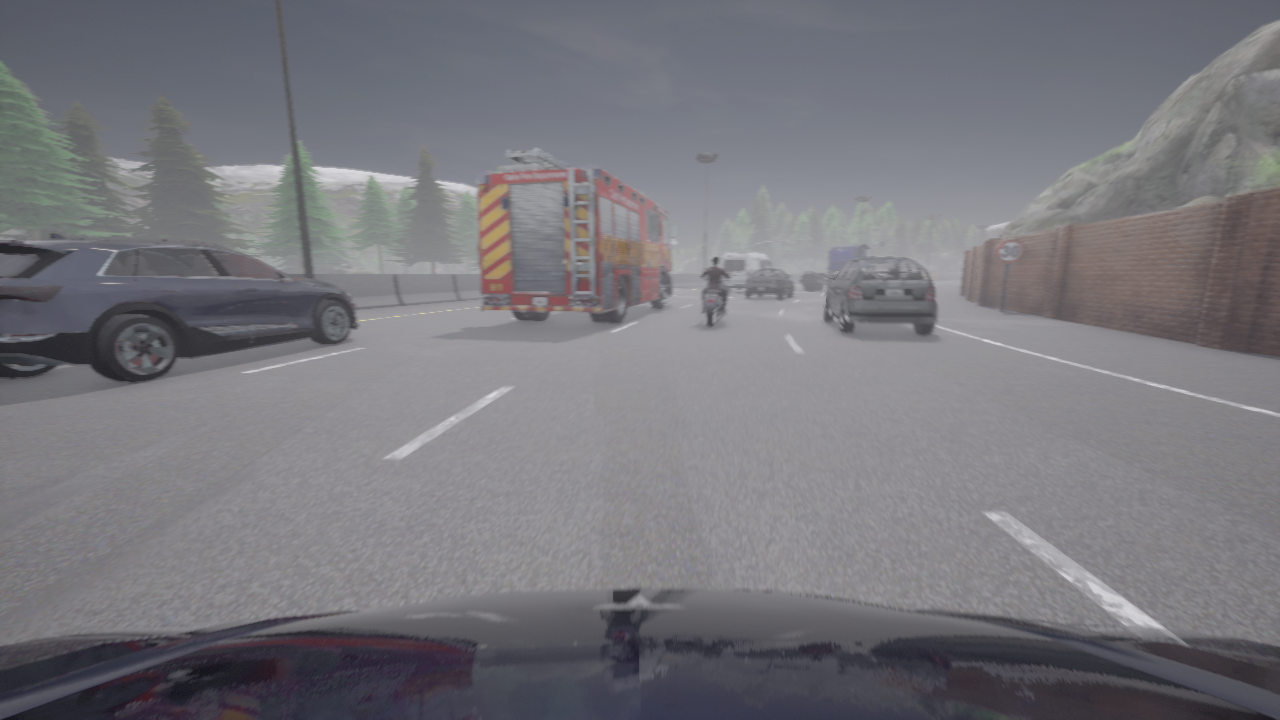cyclist: (0, 588, 1279, 719), (0, 234, 357, 382), (478, 148, 678, 323), (825, 257, 937, 335), (801, 243, 874, 289), (721, 251, 775, 291), (702, 271, 731, 327), (745, 268, 793, 299)
